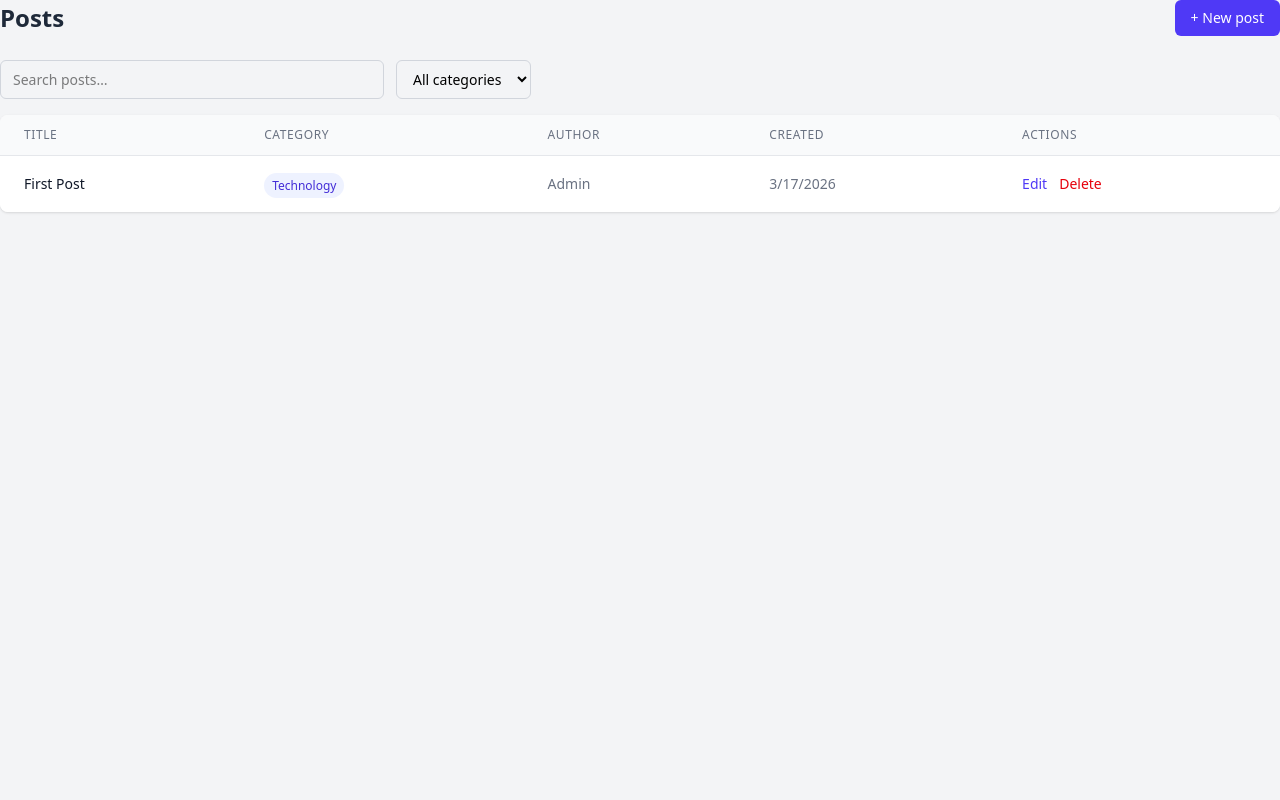
Test: Posts page › opens edit modal pre-filled with post data
The width and height of the screenshot is (1280, 800).
Expected: the text "First Post" is shown, [0,156,240,212]
Step 1. Click the button "Edit" → coordinates (1035, 184), box [1022,174,1047,194]
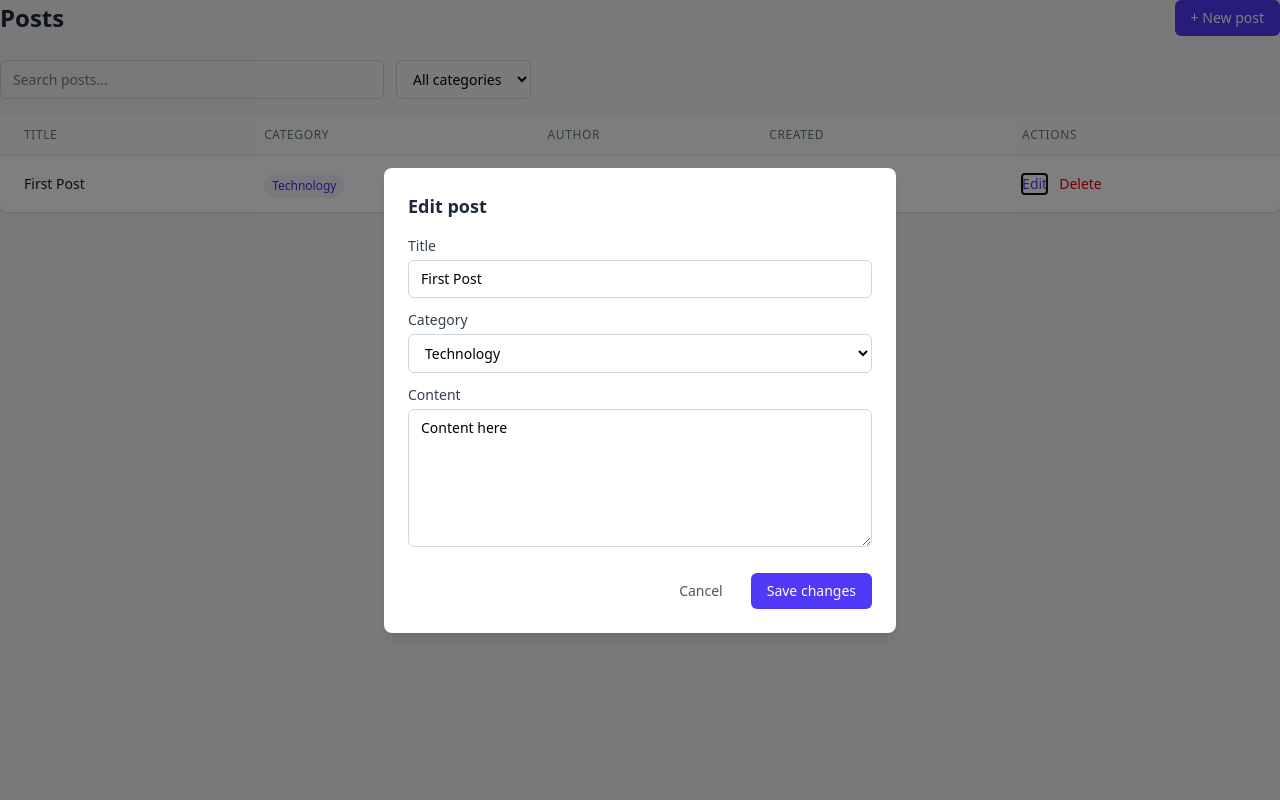
Now the heading "Edit post" is shown, box [408,194,487,218]
Now the field labelled "Title" holds "First Post", box [408,260,872,298]
Now the text box labelled "Content" holds "Content here", box [408,408,872,546]
